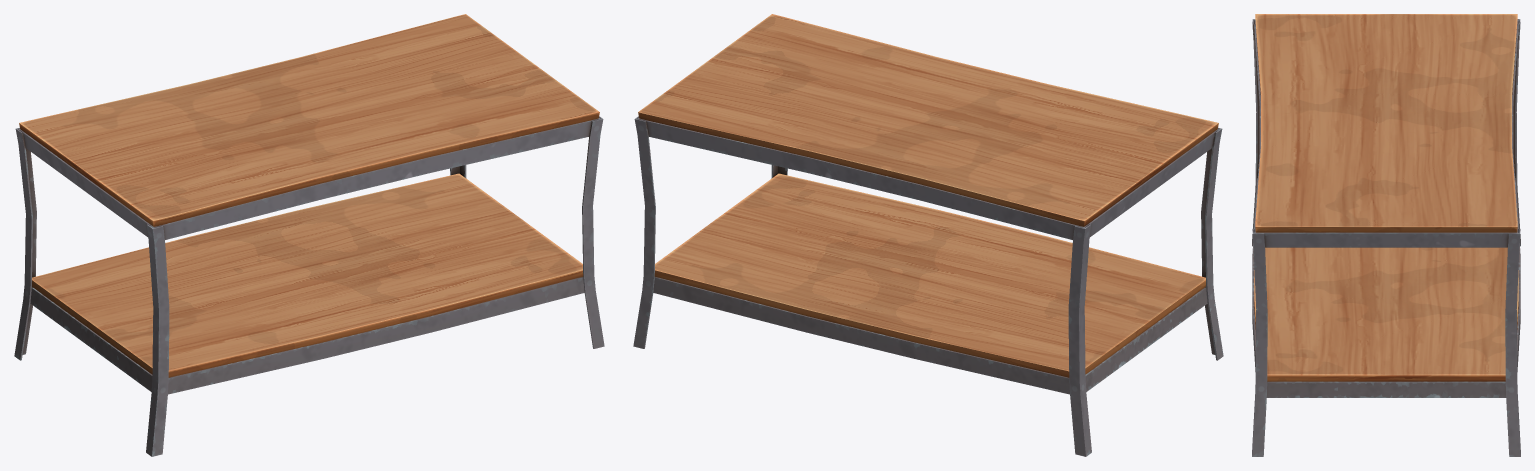
Rendered from Table03_2.FBX.
3 views of the same model, side by side, from view 1: azimuth 30°, elevation 25°; view 2: azimuth 150°, elevation 25°; view 3: azimuth 270°, elevation 25° (orthographic). The views are drawn at different scales.
Visible parts, largest first — view 1: Table03_2; view 2: Table03_2; view 3: Table03_2.
Part boxes in pixels (x1=…): Table03_2: x1=14, y1=14, x2=604, y2=456; Table03_2: x1=633, y1=14, x2=1223, y2=456; Table03_2: x1=1252, y1=14, x2=1520, y2=456.
Size of what is drawn, in the model's own units: 1.52 by 0.75 by 0.8.
